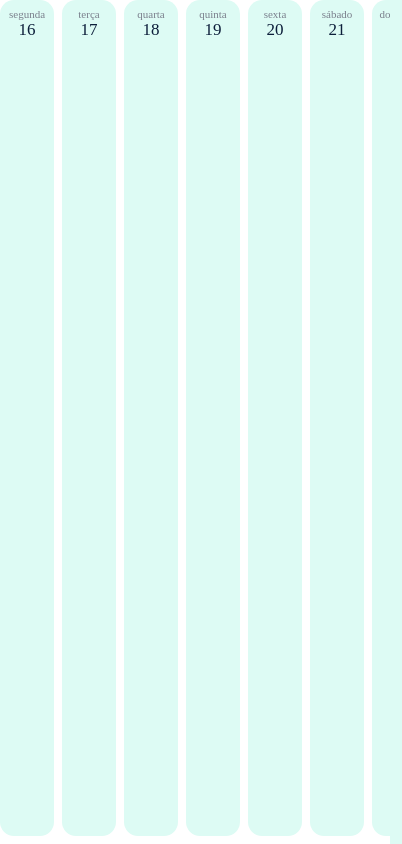
Test: escolha da data e da hora da reserva › só mostra as horas depois de escolher o dia
Expected: the text "10:00" is not shown
Click the text "17" at {"x": 89, "y": 30}, box [80,20,98,40]
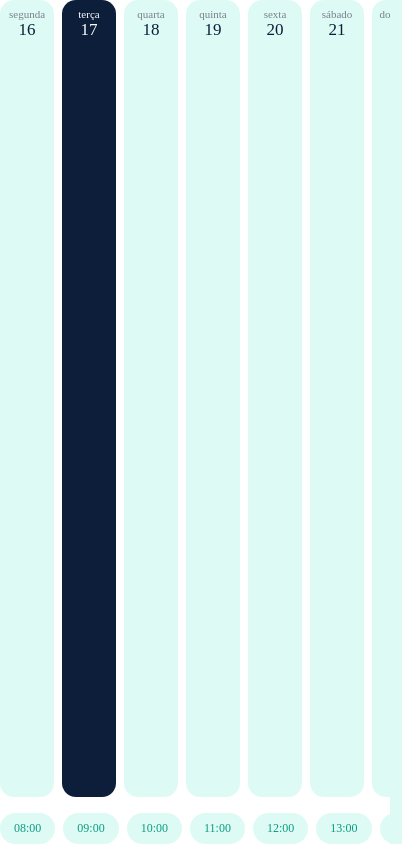
Expected: the text "08:00" is shown, [14,821,41,836]
